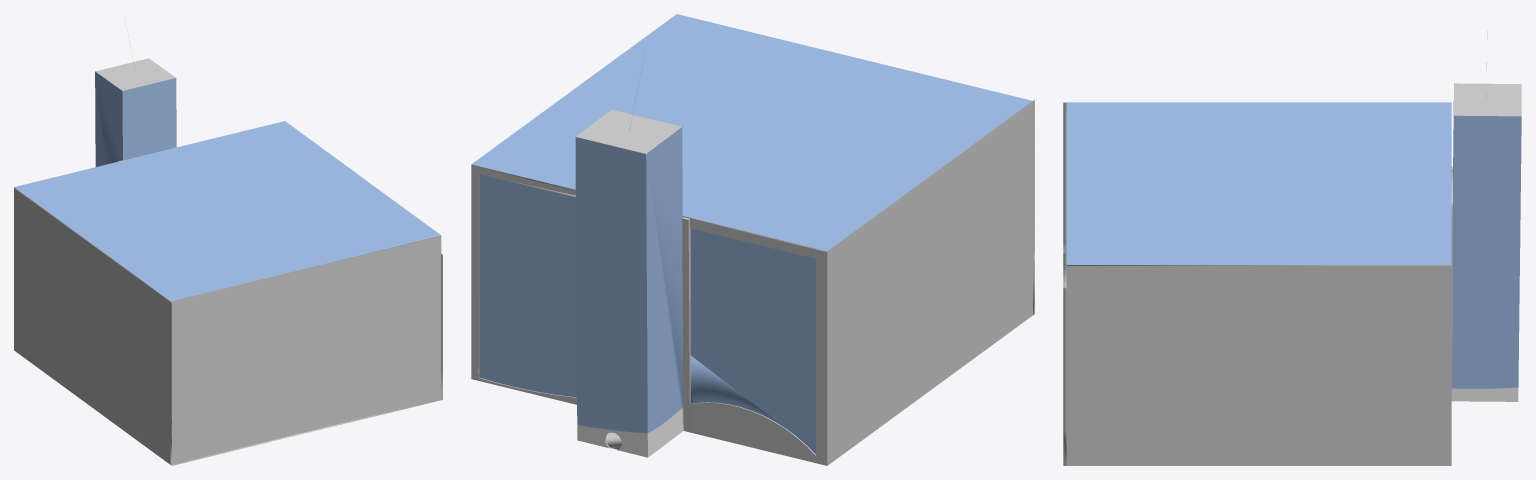
The model's file is CKV_obj3.fbx.
3 renders of one model, left to right at view 1: azimuth 30°, elevation 25°; view 2: azimuth 150°, elevation 25°; view 3: azimuth 270°, elevation 25°, orthographic. The views are drawn at different scales.
Visible parts, largest first — view 1: Mesh2 Model.001; view 2: Mesh2 Model.001; view 3: Mesh2 Model.001.
Part boxes in pixels (left/top/right/bottom): Mesh2 Model.001: left=14, top=15, right=442, bottom=465; Mesh2 Model.001: left=471, top=14, right=1034, bottom=465; Mesh2 Model.001: left=1063, top=31, right=1521, bottom=465.
Size of the model in its own units: 3371 by 3521 by 4015.
